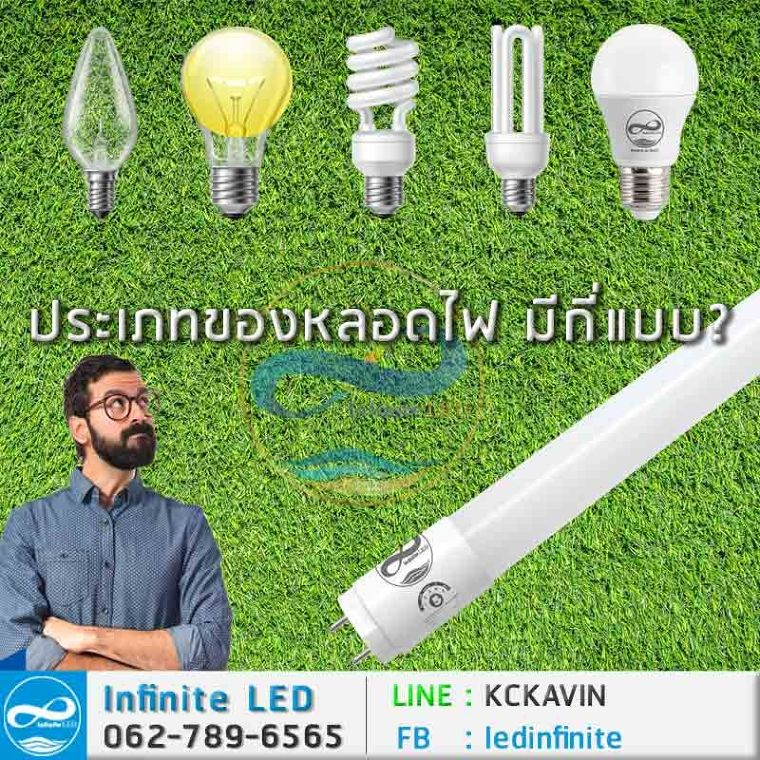Light_bulb: (579, 20, 705, 234), (181, 23, 297, 223), (338, 23, 418, 222), (480, 20, 559, 212), (61, 25, 127, 222)
